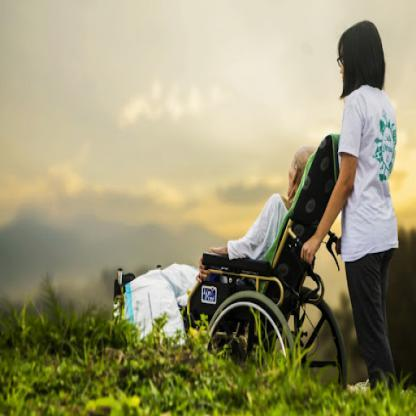wheelchair: (101, 125, 355, 415)
